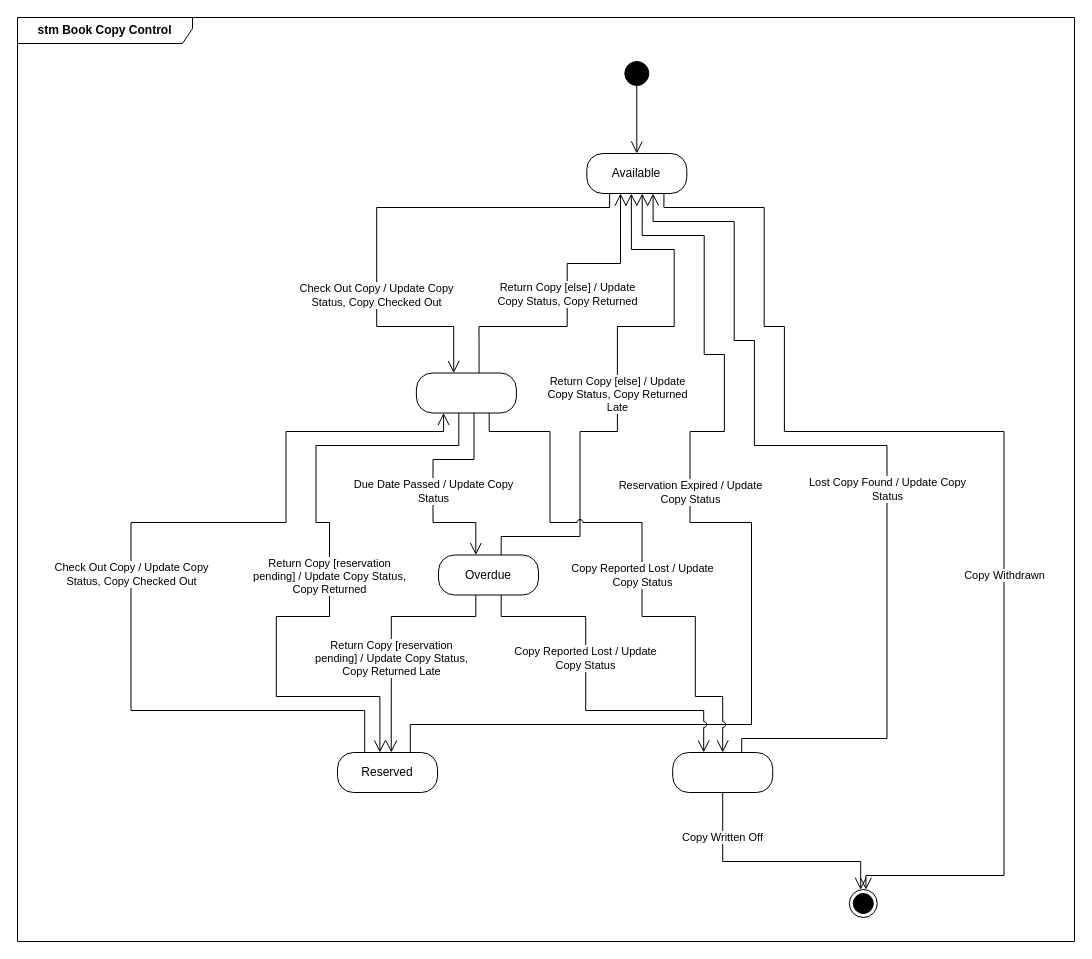
Some shapes in this 1092 by 959 pixel diagram are drawn without their labels. Each missing label, with the box of its shape:
Lost: (672, 752, 773, 792)
On Loan: (415, 372, 516, 413)
